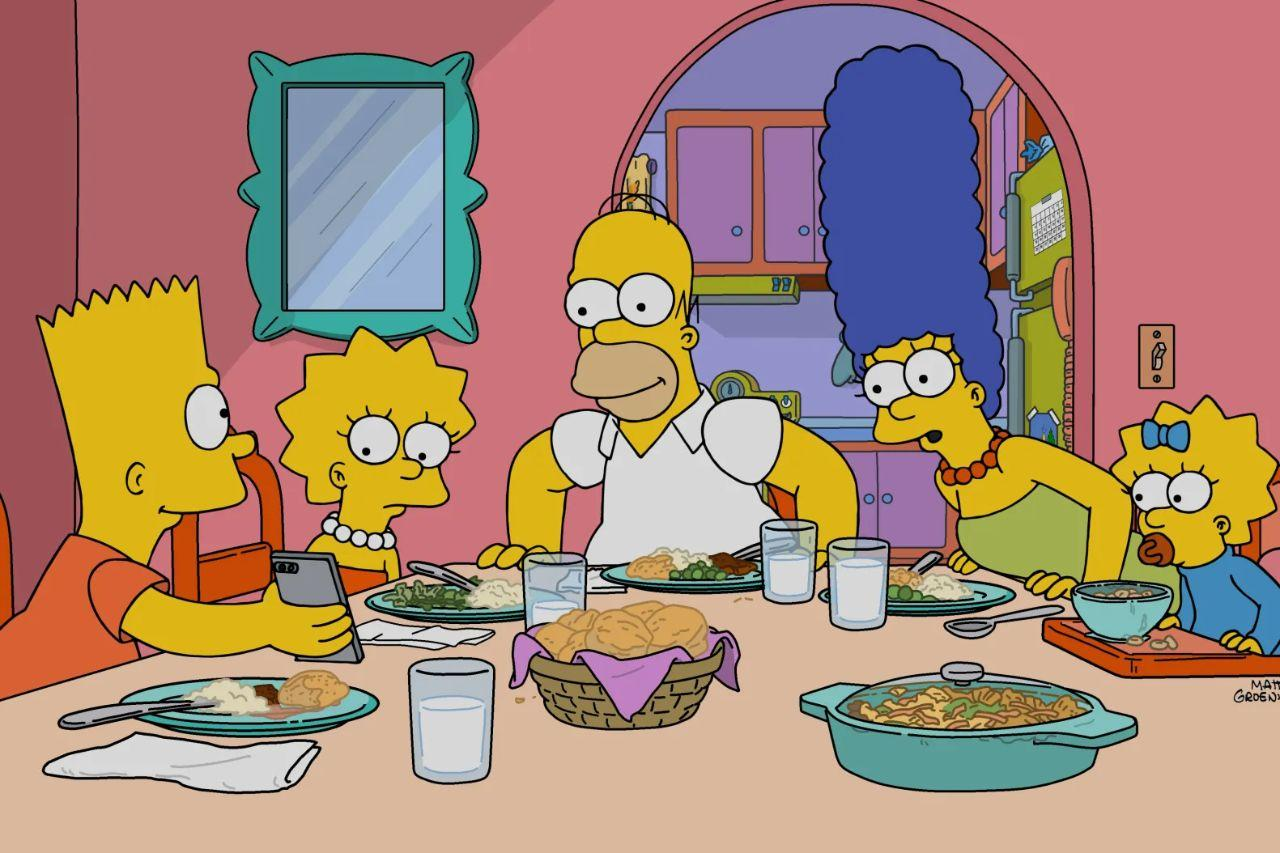Bart: (13, 284, 329, 694)
Homer: (527, 190, 813, 563)
Lisa: (263, 304, 499, 602)
Maggie: (1096, 382, 1272, 623)
Marge: (808, 40, 1125, 617)
